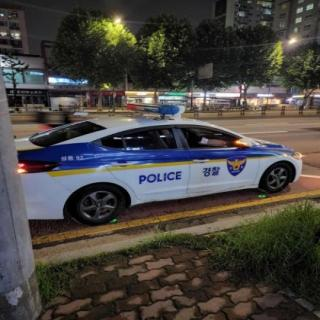Police_car: (0, 98, 307, 227)
